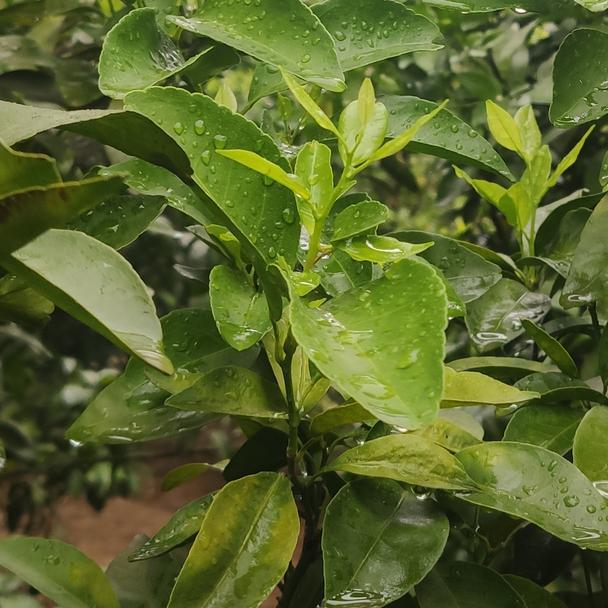shoot: (262, 73, 445, 304), (481, 96, 589, 268)
